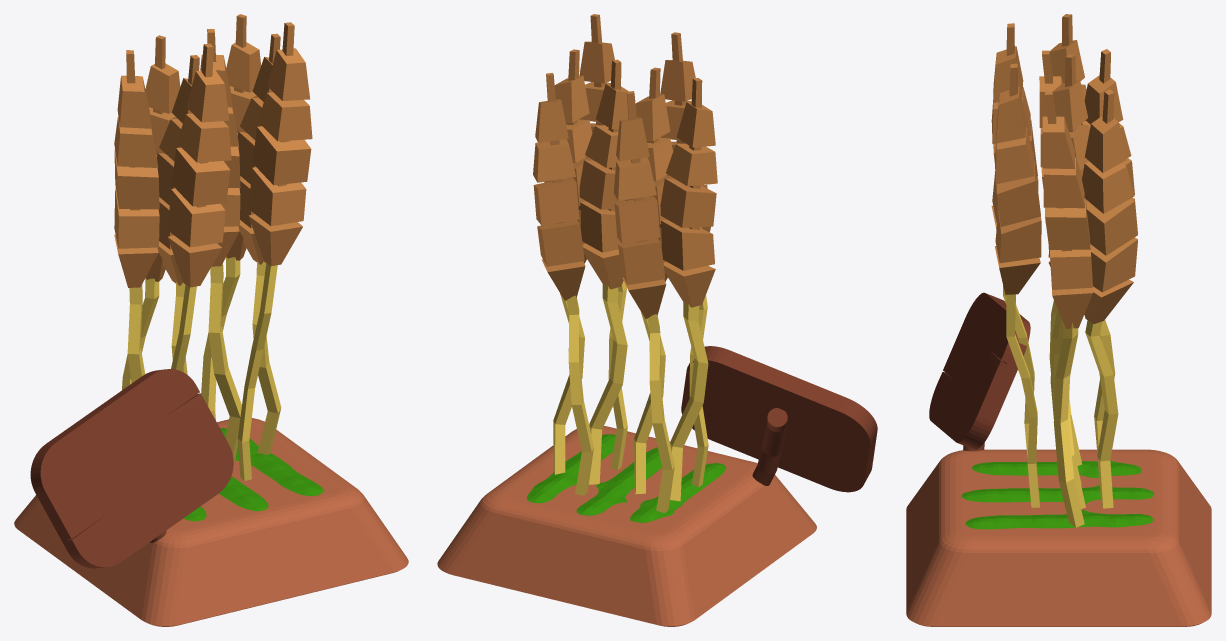
Rendered from 1BugdayTarlasi.fbx.
The picture shows the model from 3 angles, left to right: view 1: azimuth 30°, elevation 25°; view 2: azimuth 150°, elevation 25°; view 3: azimuth 270°, elevation 25°; orthographic projection. The views are drawn at different scales.
Visible parts, largest first — view 1: Cube.014, Cylinder.007, Cube.025, Cube.013, Cube.024, Cube.021, Cube.009, Cube.022, Cube.028, Plane.009, Cube.029, Cube.023 (+1 smaller); view 2: Cube.014, Cylinder.007, Cube.021, Cube.024, Cube.009, Cube.029, Cube.023, Cube.026, Plane.009, Cube.028, Cube.022, Cube.013 (+1 smaller); view 3: Cube.014, Cylinder.007, Cube.029, Cube.024, Cube.028, Cube.025, Plane.009, Cube.009, Cube.026, Cube.013, Cube.023, Cube.021 (+1 smaller).
Part boxes in pixels (<box>): Cube.014: <box>14,418,408,626</box>; Cylinder.007: <box>30,369,233,568</box>; Cube.025: <box>248,22,312,266</box>; Cube.013: <box>167,43,231,287</box>; Cube.024: <box>201,256,281,480</box>; Cube.021: <box>114,50,159,287</box>; Cube.009: <box>122,278,196,389</box>; Cube.022: <box>157,55,199,285</box>; Cube.028: <box>237,33,280,264</box>; Plane.009: <box>183,428,323,521</box>; Cube.029: <box>226,14,261,260</box>; Cube.023: <box>145,35,180,281</box>; Cube.014: <box>437,426,816,626</box>; Cylinder.007: <box>681,346,877,492</box>; Cube.021: <box>659,78,717,307</box>; Cube.024: <box>553,281,627,495</box>; Cube.009: <box>634,295,708,512</box>; Cube.029: <box>533,73,585,300</box>; Cube.023: <box>613,91,666,318</box>; Cube.026: <box>578,59,628,289</box>; Plane.009: <box>527,434,726,522</box>; Cube.028: <box>544,49,595,263</box>; Cube.022: <box>625,67,675,281</box>; Cube.013: <box>660,32,710,232</box>; Cube.014: <box>906,449,1211,626</box>; Cylinder.007: <box>929,292,1030,451</box>; Cube.029: <box>1082,89,1137,323</box>; Cube.024: <box>1006,294,1118,527</box>; Cube.028: <box>1042,91,1093,328</box>; Cube.025: <box>994,63,1041,294</box>; Plane.009: <box>961,460,1154,529</box>; Cube.009: <box>1003,285,1115,484</box>; Cube.026: <box>1048,54,1089,266</box>; Cube.013: <box>991,23,1038,229</box>; Cube.023: <box>1081,49,1134,200</box>; Cube.021: <box>1045,14,1086,222</box>.
Size of the model in its own units: 5.22 by 7.54 by 3.96.
